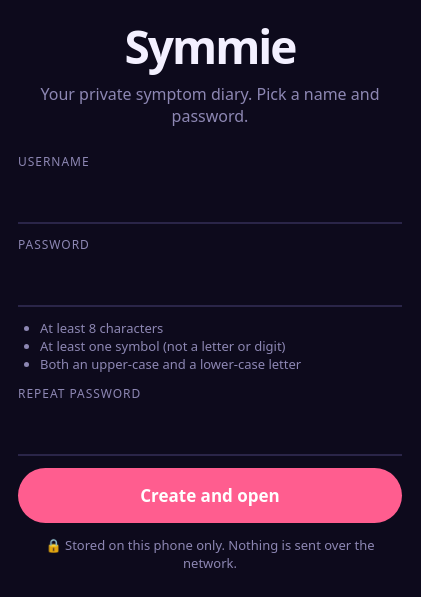
Test: LockGate on first run › shows an error and saves nothing when the passwords differ
Type "anna" into the field labelled "Username" at (210, 199), box [18, 174, 402, 224]
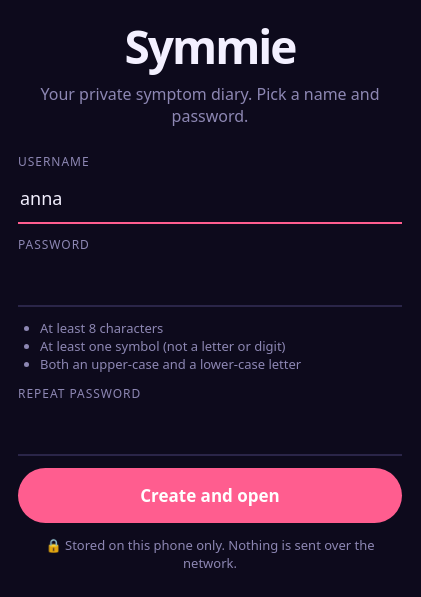
Type "Abcdef1!" into the password field labelled "Password" at (210, 282), box [18, 257, 402, 307]
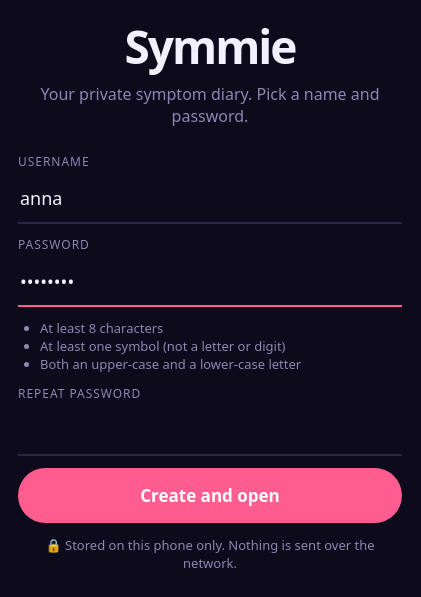
Type "Abcdef1?" into the password field labelled "Repeat password" at (210, 431), box [18, 406, 402, 456]
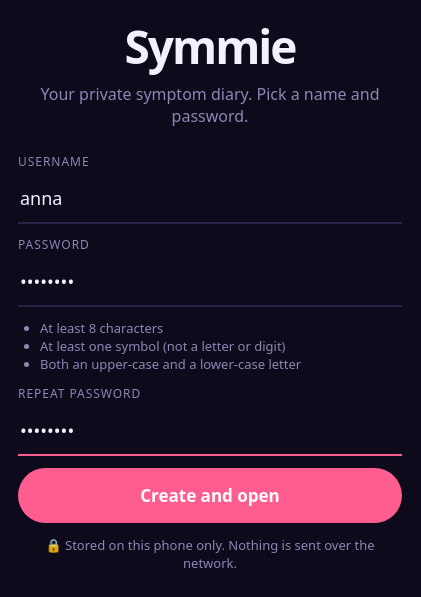
Click the button "Create and open" at (210, 496), box [18, 468, 402, 523]
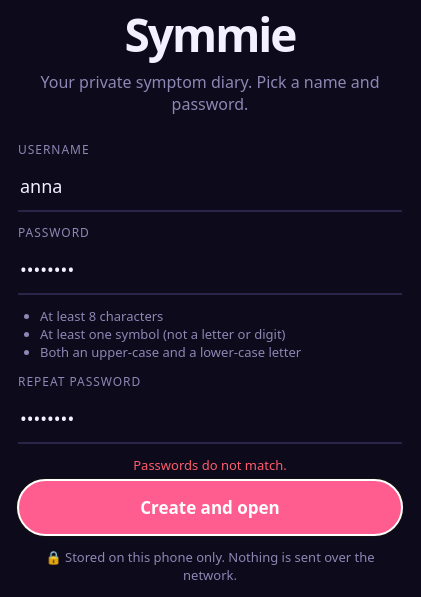
Expected: the message reads "Passwords do not match.", [133, 456, 287, 474]
